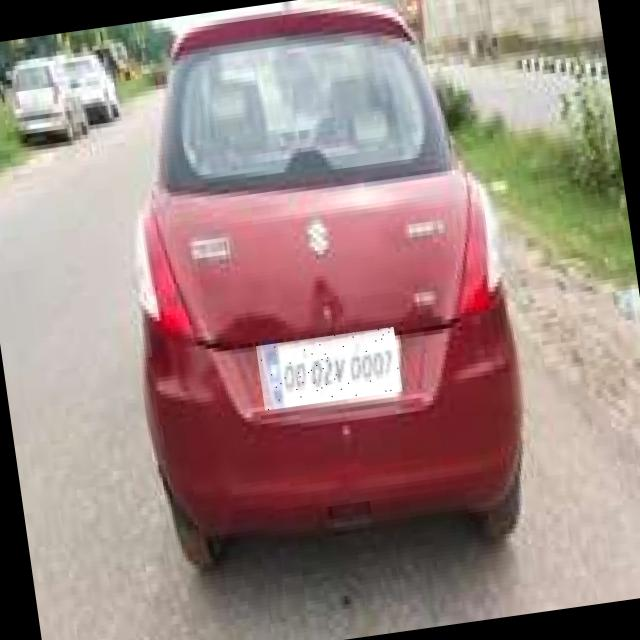Plate: (257, 328, 404, 412)
